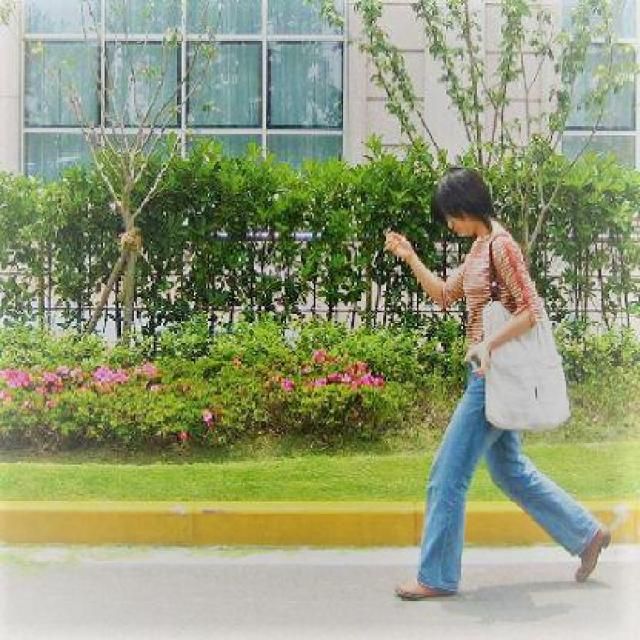Person: (365, 160, 612, 602)
